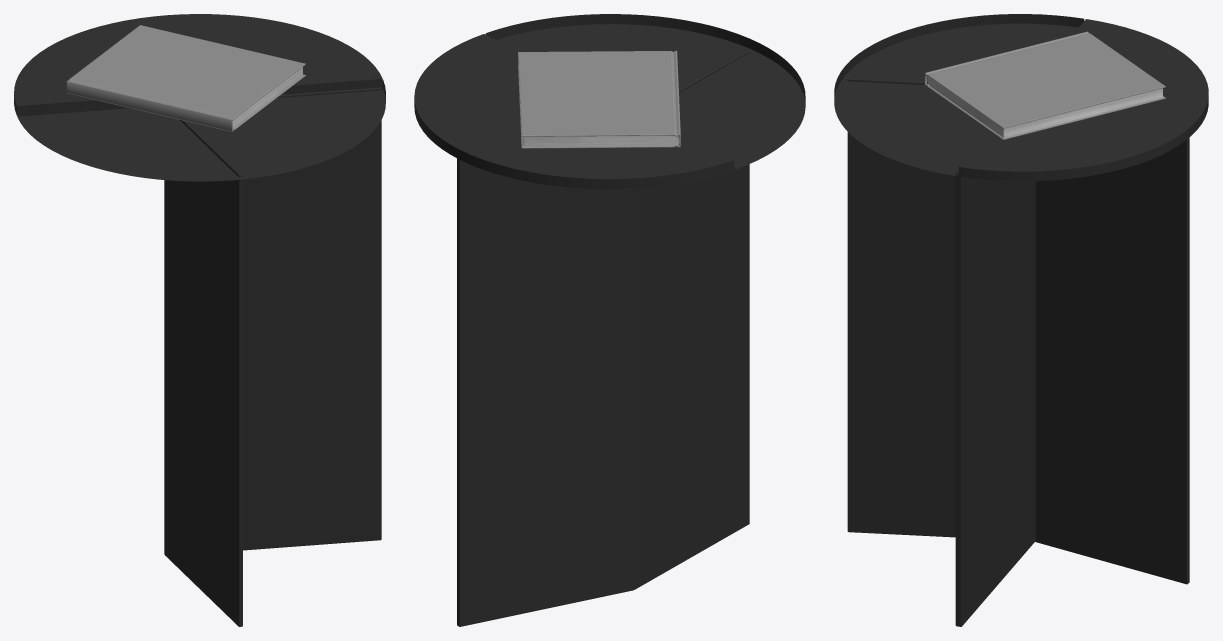
3 views of the same model, side by side, from view 1: azimuth 30°, elevation 25°; view 2: azimuth 150°, elevation 25°; view 3: azimuth 270°, elevation 25° (orthographic). The views are drawn at different scales.
Visible parts, largest first — view 1: Line116, Cylinder17967, Cover book-01.009, Cylinder17966; view 2: Line116, Cylinder17967, Cylinder17966, Cover book-01.009; view 3: Line116, Cylinder17967, Cylinder17966, Cover book-01.009.
Part boxes in pixels (x1,y1,x2,y2): Line116: [164, 87, 381, 626]; Cylinder17967: [17, 80, 385, 181]; Cover book-01.009: [66, 25, 305, 131]; Cylinder17966: [14, 14, 382, 115]; Line116: [457, 49, 749, 626]; Cylinder17967: [485, 14, 805, 169]; Cylinder17966: [414, 34, 734, 189]; Cover book-01.009: [518, 50, 680, 148]; Line116: [847, 77, 1189, 626]; Cylinder17967: [834, 14, 1084, 176]; Cylinder17966: [958, 19, 1208, 181]; Cover book-01.009: [924, 31, 1165, 139].
Bounding box in the file's own units: 0.3505 × 0.4907 × 0.3518.
Materials: 3 (1 with a texture image).
